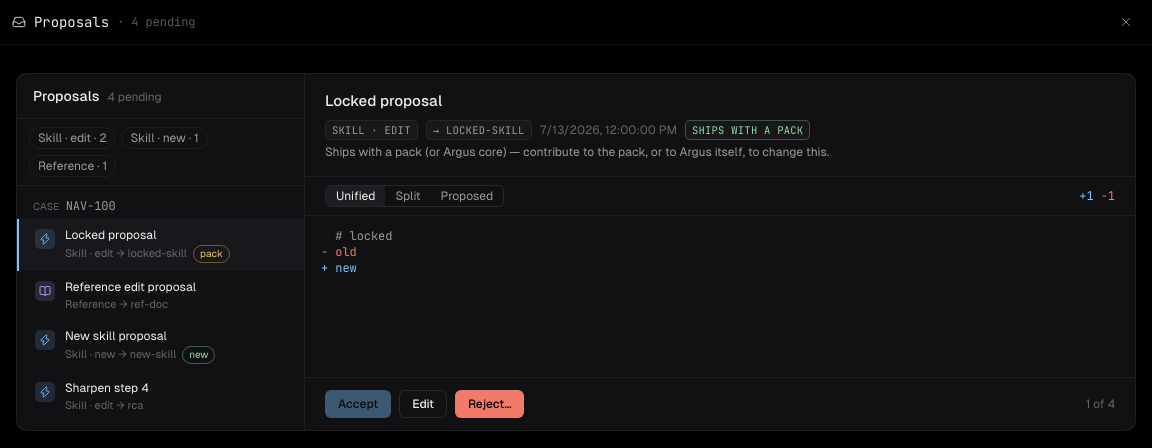
it: ProposalsStandalone › clicking another queue row swaps the detail pane
Click the button with aria-label "Select proposal New skill proposal" at x=160, y=346, box top-left (17, 320), bottom-right (304, 372)
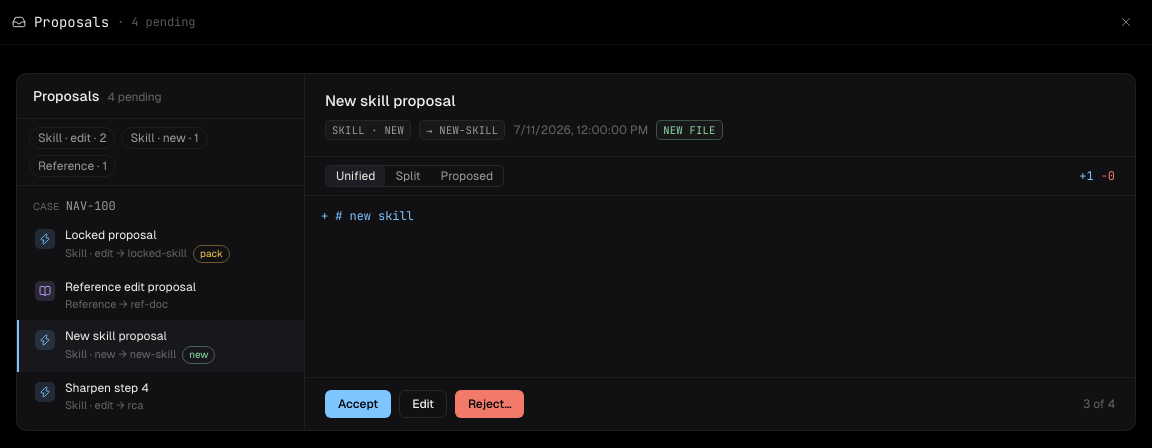
expect the button with aria-label "Accept New skill proposal" is shown: met, box top-left (325, 390), bottom-right (391, 418)
